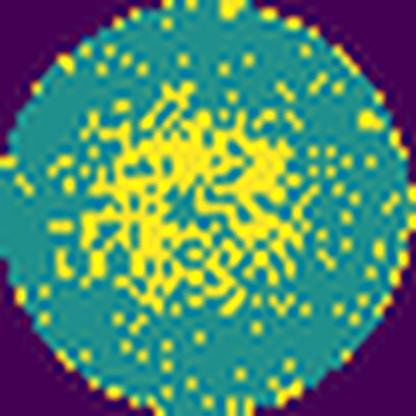Center: (81, 83, 304, 318)
